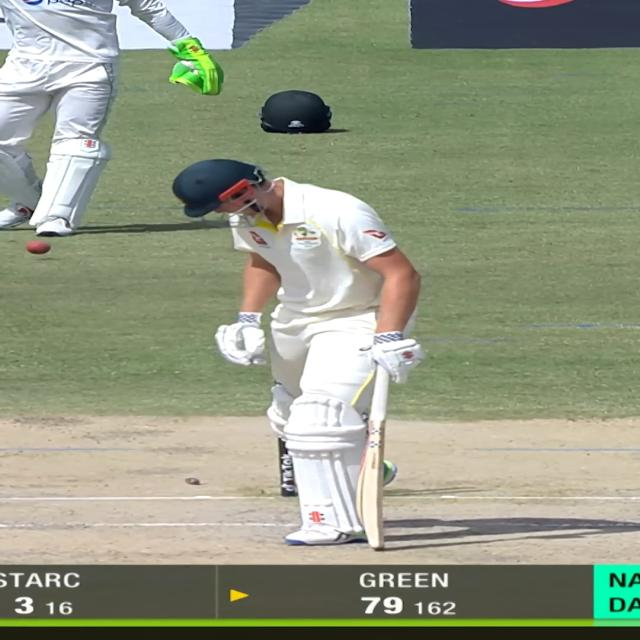Cricket ball: (24, 239, 52, 255)
